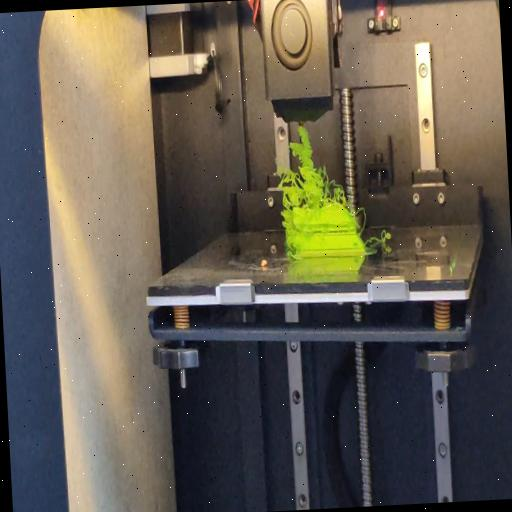spaghetti: (278, 118, 350, 210), (282, 213, 297, 258), (368, 230, 394, 248), (356, 201, 367, 238)
